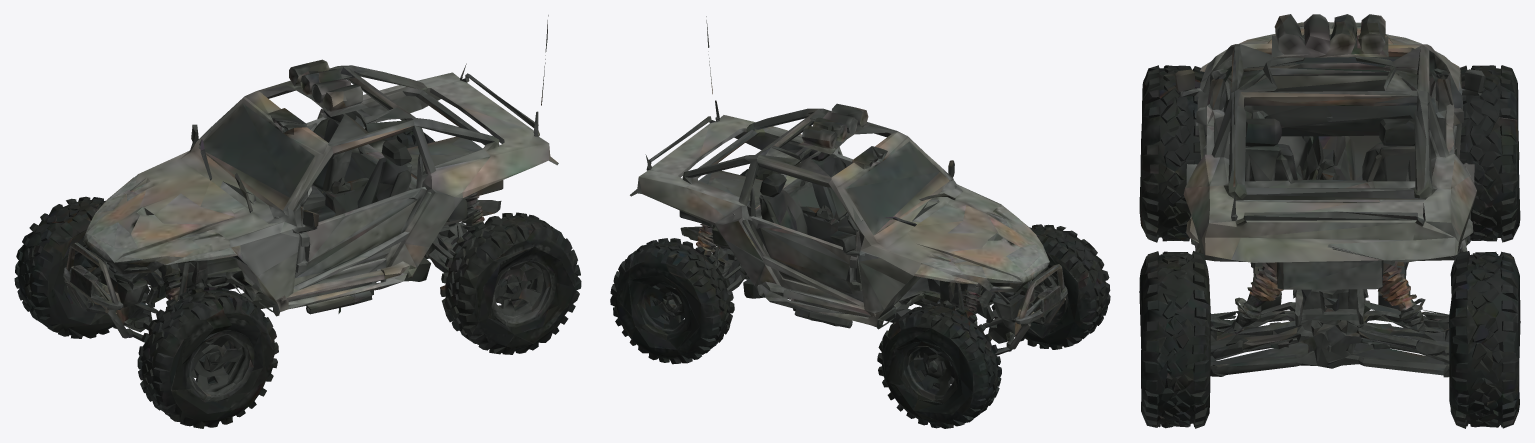
Rendered from mx_veh_buggy.glb.
3 views of the same model, side by side, from view 1: azimuth 30°, elevation 25°; view 2: azimuth 150°, elevation 25°; view 3: azimuth 270°, elevation 25° (orthographic). The views are drawn at different scales.
Bounding box in the file's own units: 1.9 × 1.27 × 1.16.
1 material, 1 textured.
